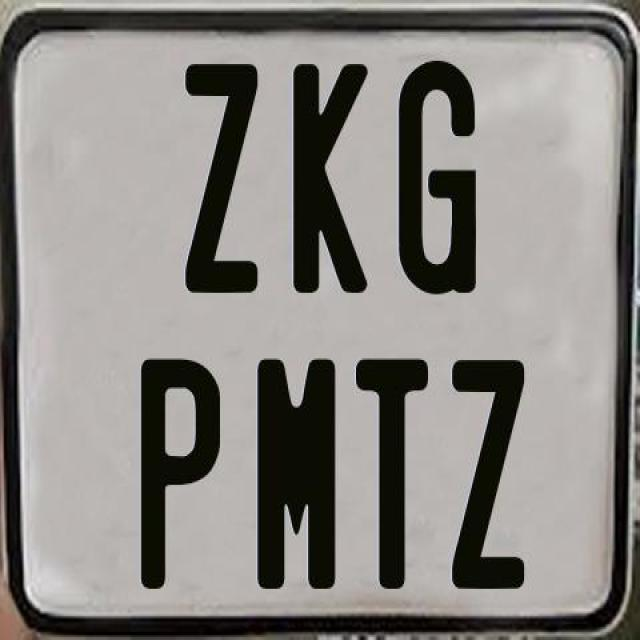G: (397, 59, 475, 296)
K: (292, 60, 368, 298)
M: (257, 356, 344, 590)
P: (138, 357, 222, 589)
T: (353, 355, 431, 587)
Z: (182, 63, 262, 294), (449, 355, 527, 584)
